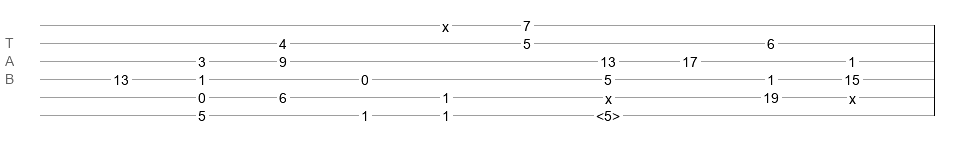0: (198, 90, 206, 100), (361, 72, 369, 82)
1: (198, 72, 206, 82), (361, 108, 369, 118), (442, 90, 450, 100), (442, 108, 450, 118), (767, 72, 775, 82), (848, 54, 856, 64)
13: (113, 72, 129, 82), (600, 54, 616, 64)
15: (844, 72, 860, 82)
17: (682, 54, 698, 64)
19: (763, 90, 779, 100)
3: (198, 54, 206, 64)
4: (279, 36, 287, 46)
5: (198, 108, 206, 118), (523, 36, 531, 46), (604, 72, 612, 82)
6: (279, 90, 287, 100), (767, 36, 775, 46)
7: (523, 18, 531, 28)
9: (279, 54, 287, 64)
harmonic: (596, 108, 620, 118)
x: (442, 19, 449, 27), (605, 91, 612, 99), (849, 91, 856, 99)
